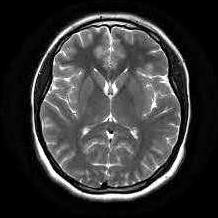Normal_Brain: (29, 5, 218, 208)
